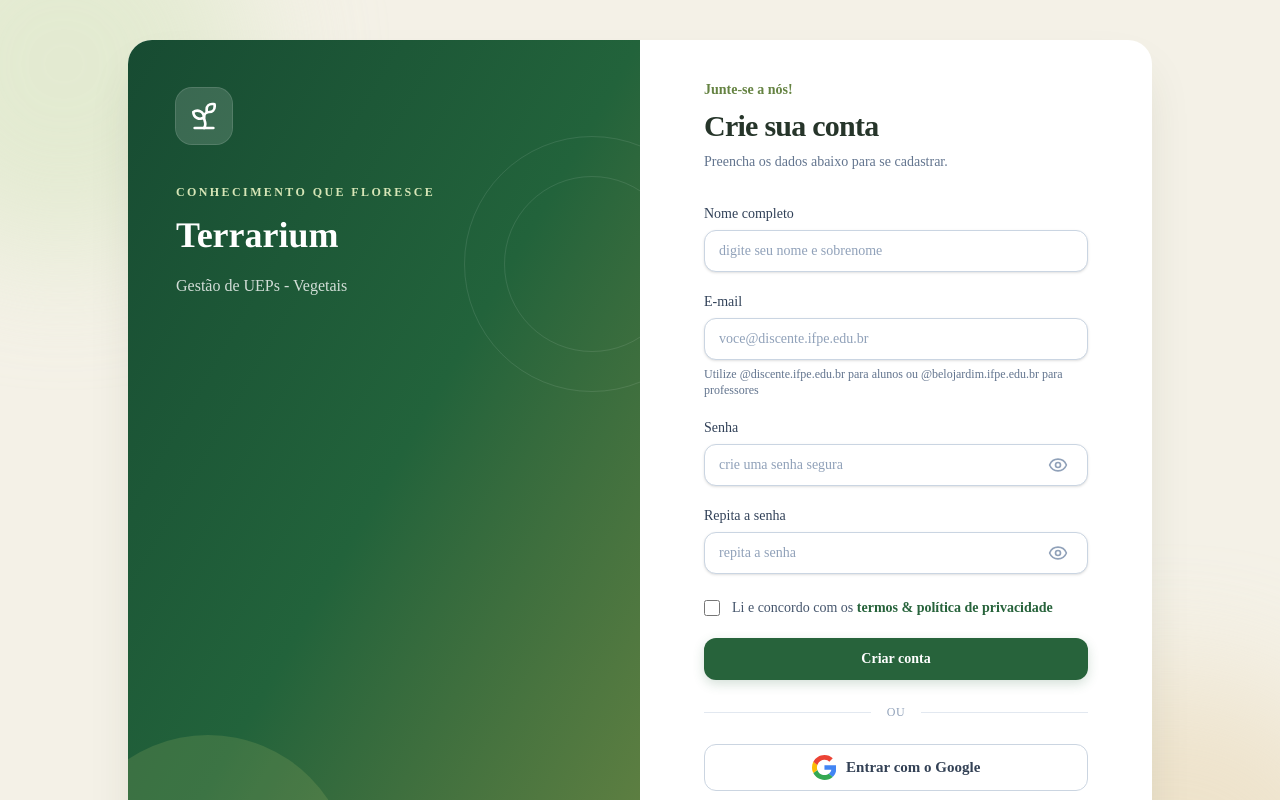
Test: RegisterPage › deve exibir erro se as senhas não coincidirem
This screenshot has width=1280, height=800.
Step 1. Type "Isabela Santos" into the field labelled "Nome completo" → coordinates (896, 251), box [704,230,1088,272]
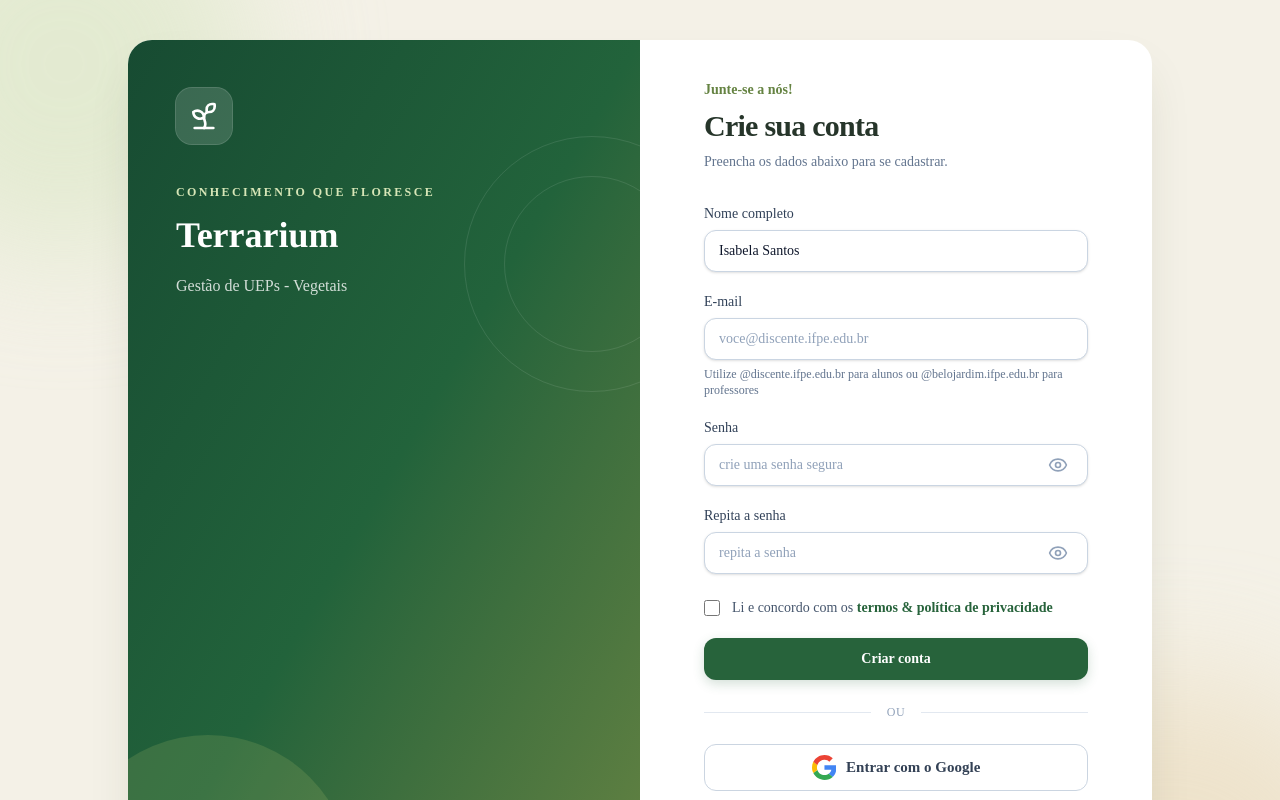
Step 2. Type "isabela@discente.ifpe.edu.br" into the field labelled "E-mail" → coordinates (896, 339), box [704,318,1088,360]
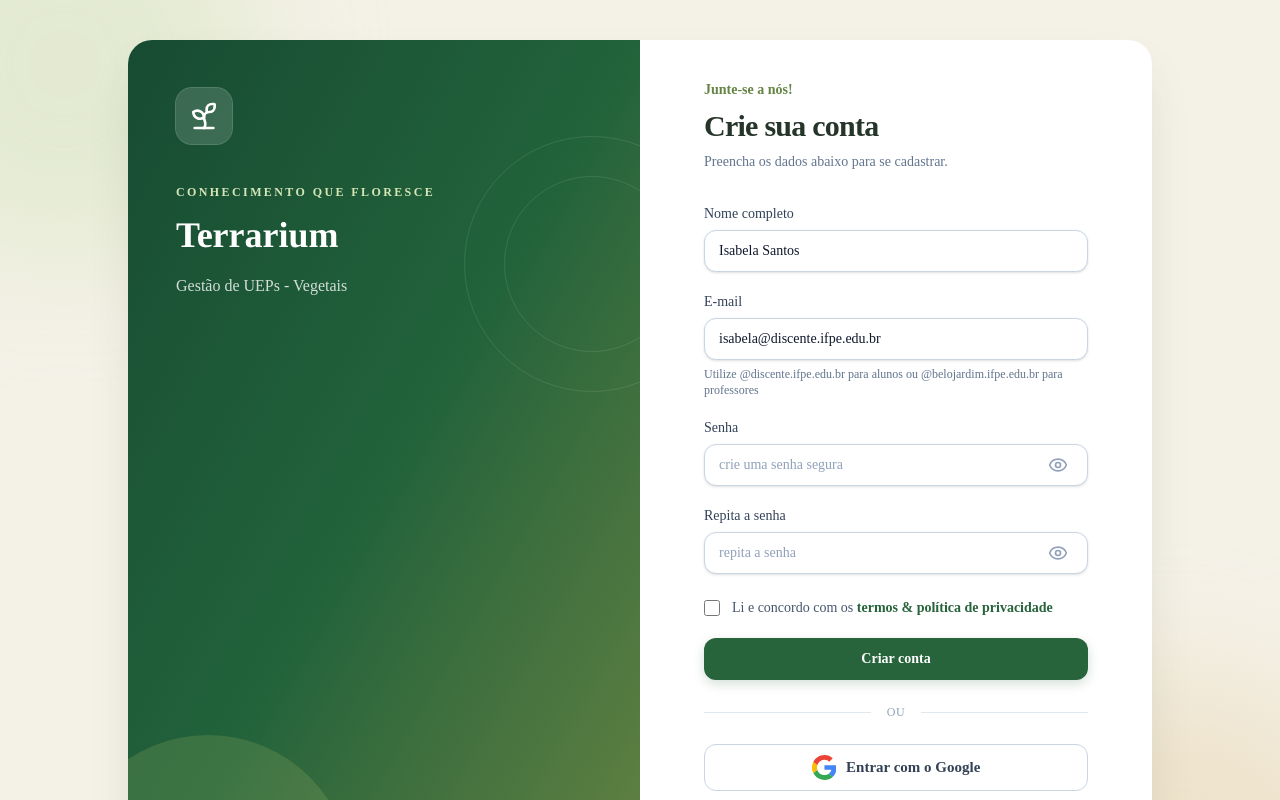
Step 3. Type "123456" into the password field labelled "Senha" → coordinates (896, 465), box [704,444,1088,486]
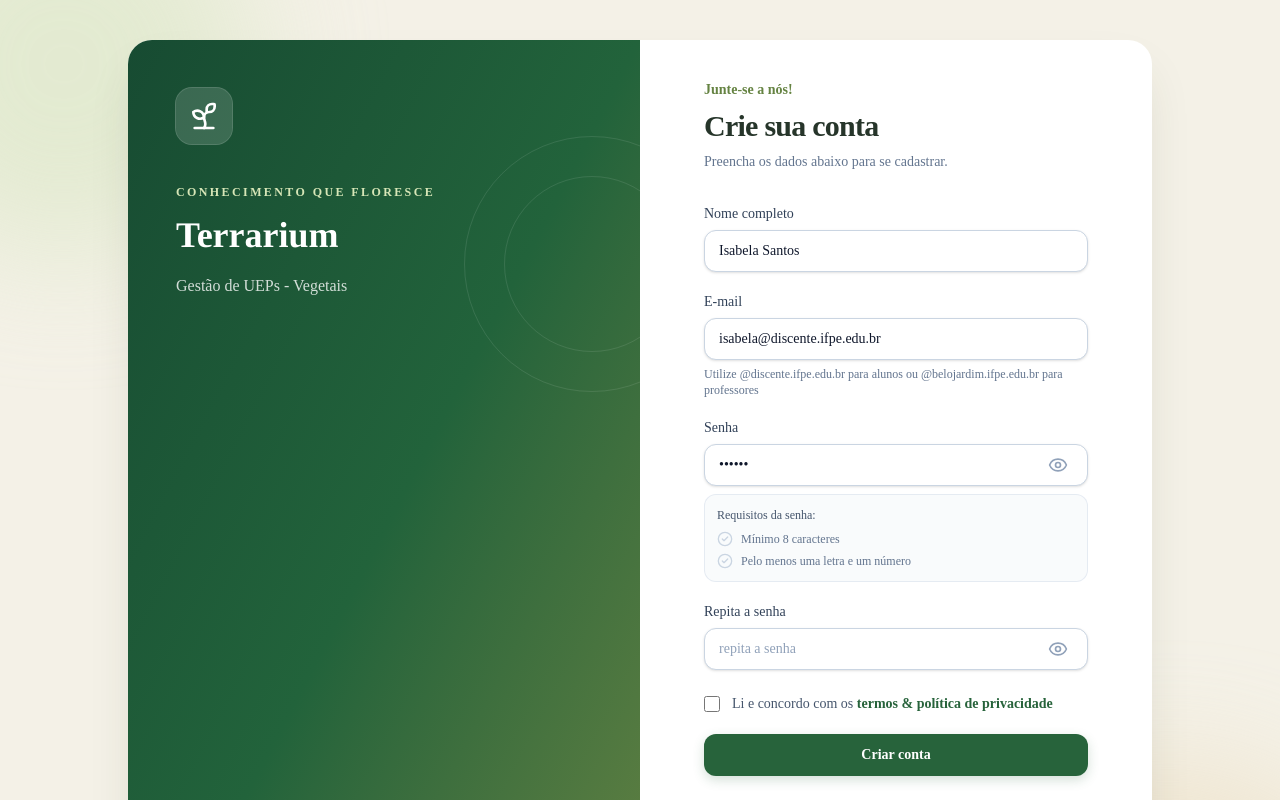
Step 4. Type "654321" into the password field labelled "Repita a senha" → coordinates (896, 649), box [704,628,1088,670]
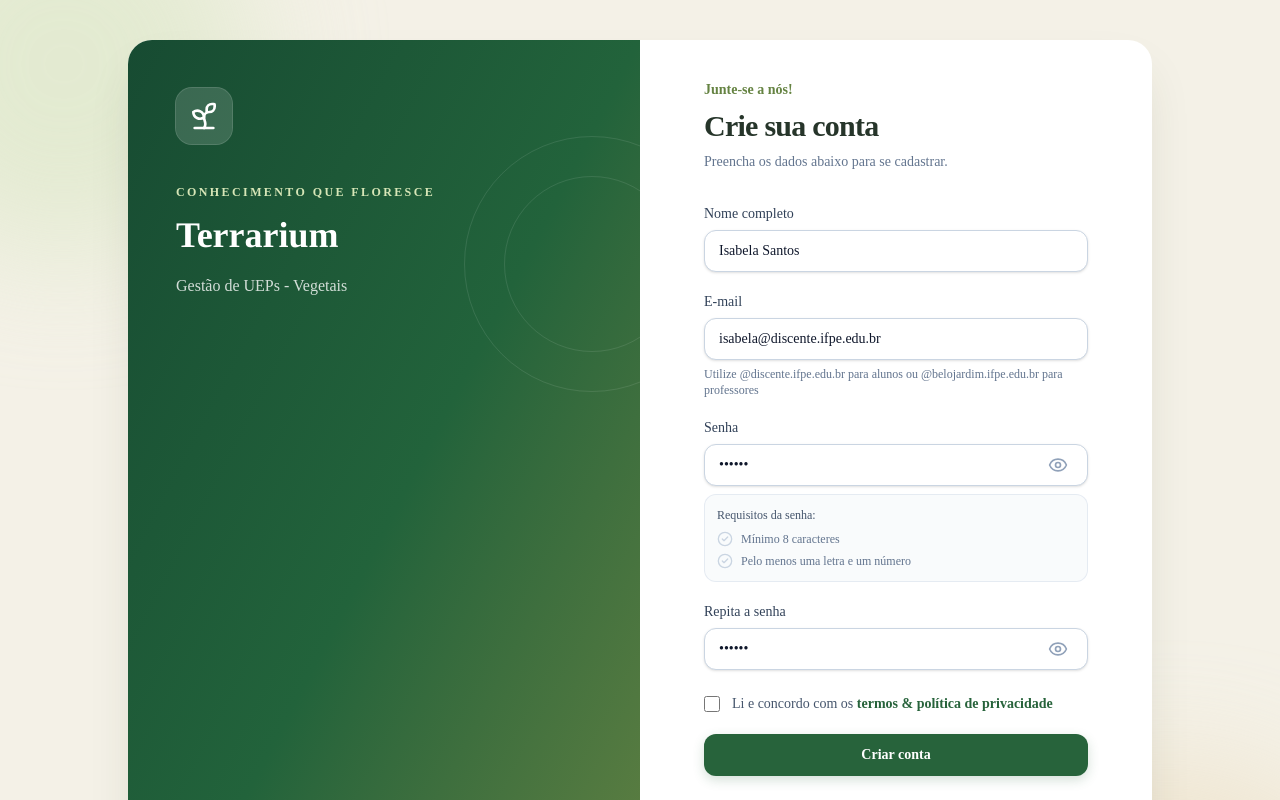
Step 5. Click the button "Criar conta" → coordinates (896, 755), box [704,734,1088,776]
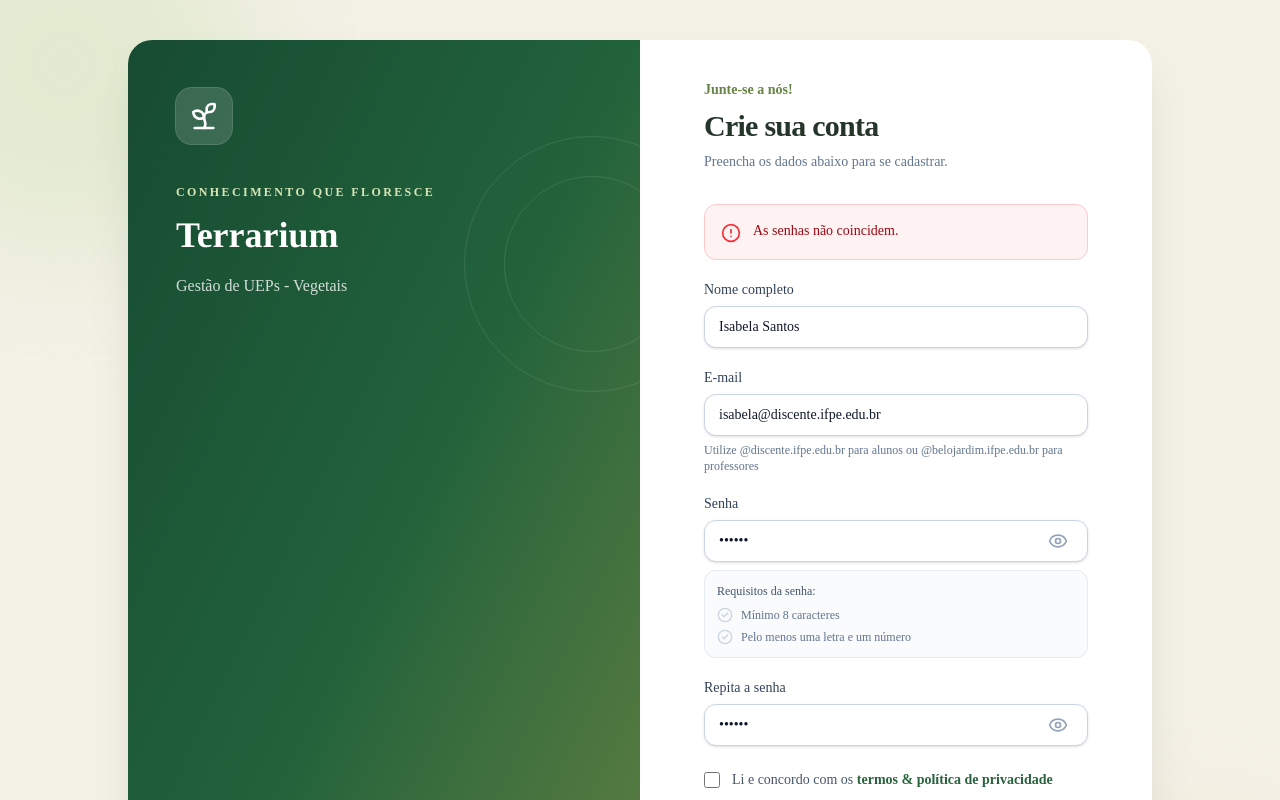
Expected: the text "As senhas não coincidem." is shown, [753,221,898,241]
